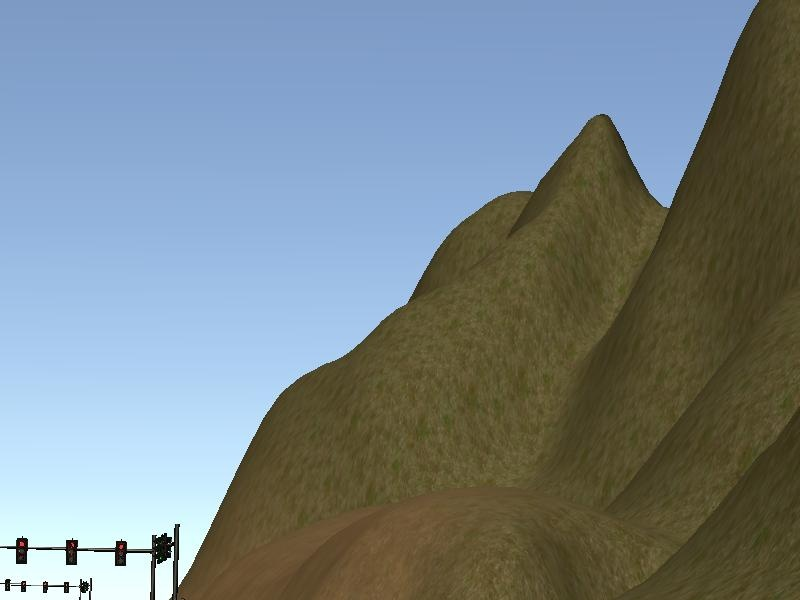traffic_light_red: (2, 537, 153, 568)
